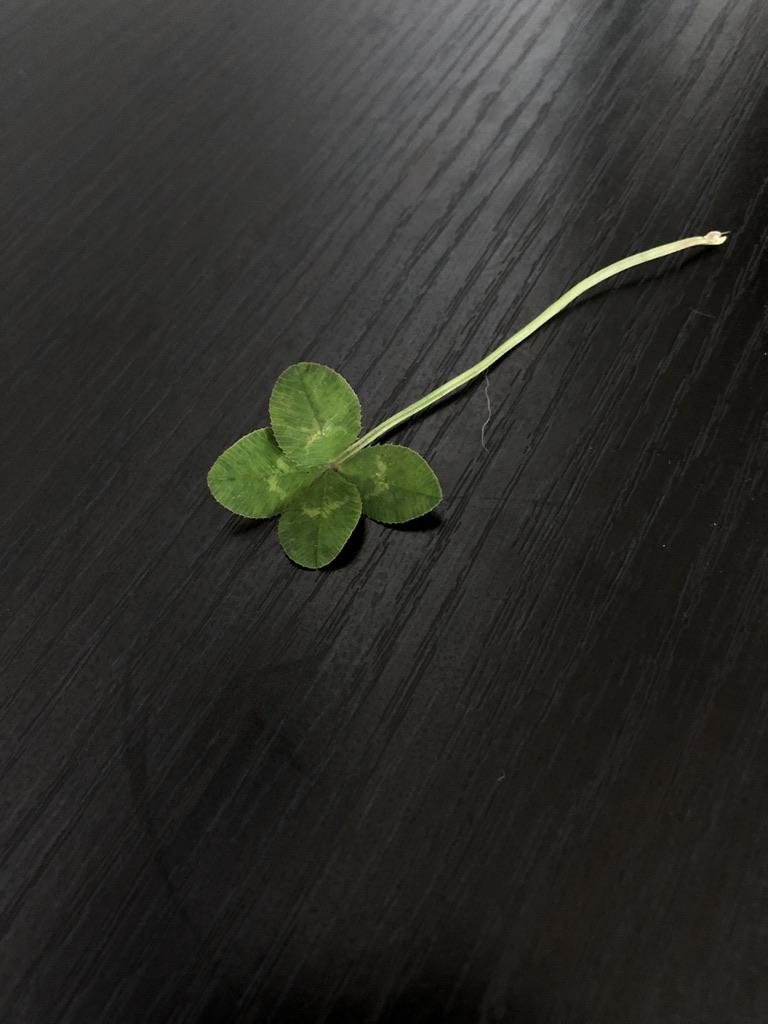4-Leaf-Clovers: (275, 435, 425, 747)
